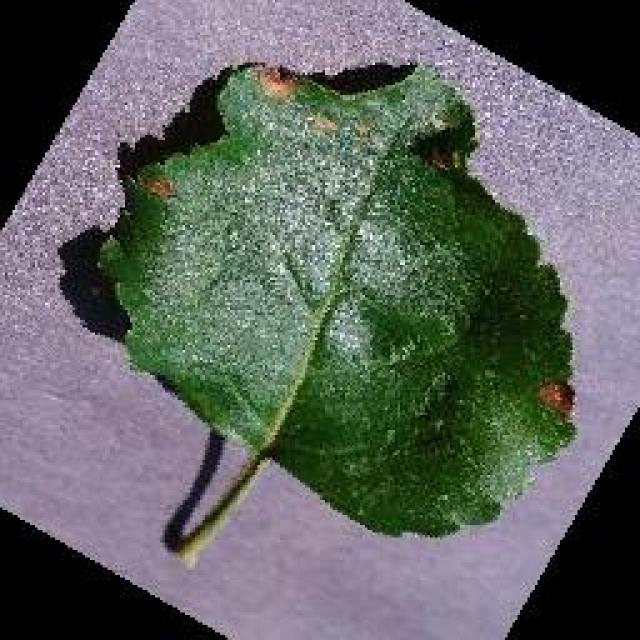apple black rot: (85, 55, 580, 563)
